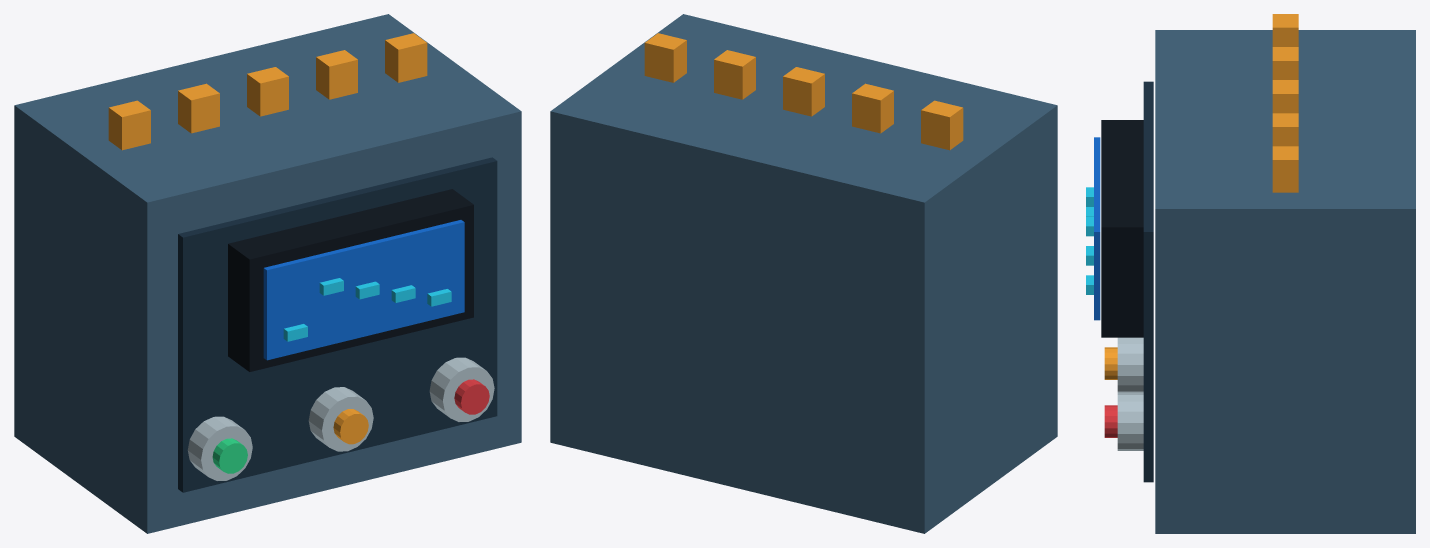
The model's file is 36_L69_EvaporatorDefrostHeaterBank.fbx.
3 renders of one model, left to right at view 1: azimuth 30°, elevation 25°; view 2: azimuth 150°, elevation 25°; view 3: azimuth 270°, elevation 25°, orthographic.
Parts seen in each view (by area): view 1: EvaporatorDefrostHeaterBank; view 2: EvaporatorDefrostHeaterBank; view 3: EvaporatorDefrostHeaterBank.
Part boxes in pixels (x1,y1,x2,y2): EvaporatorDefrostHeaterBank: (14,14,521,533); EvaporatorDefrostHeaterBank: (550,14,1057,533); EvaporatorDefrostHeaterBank: (1086,14,1415,533).
Size of the model in its own units: 65 by 60.5 by 50.6.
